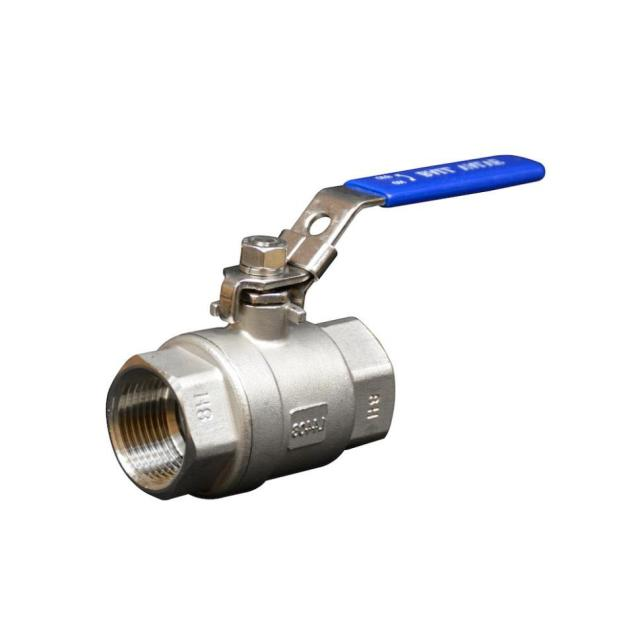opened_valve: (103, 150, 552, 504)
